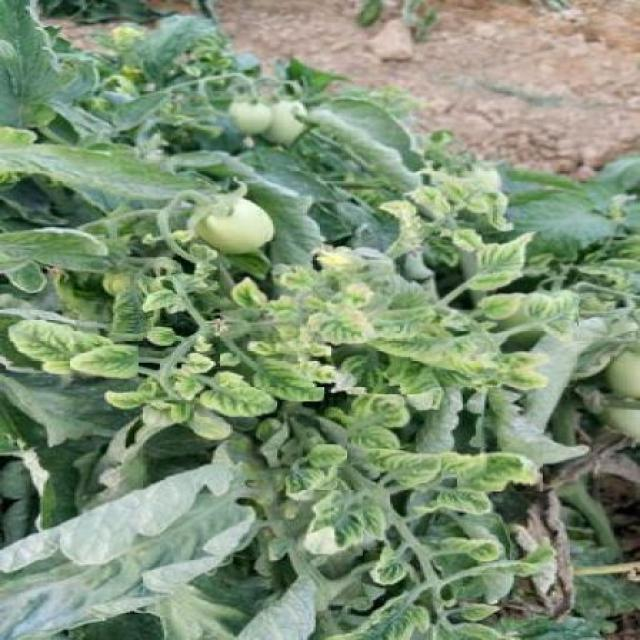Yellow Leaf Curl Virus: (220, 242, 577, 387), (6, 320, 97, 377), (465, 231, 542, 293), (298, 491, 363, 556), (457, 448, 543, 492), (348, 394, 416, 449), (194, 374, 277, 417), (312, 303, 388, 346), (254, 357, 324, 402), (524, 287, 579, 340), (70, 345, 139, 379), (380, 452, 441, 484), (436, 534, 498, 562), (476, 289, 525, 321), (307, 445, 347, 468)
